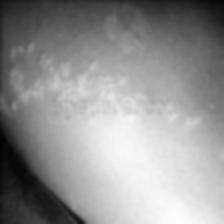Non-Cancerous Skin Condition: (179, 105, 224, 177)
